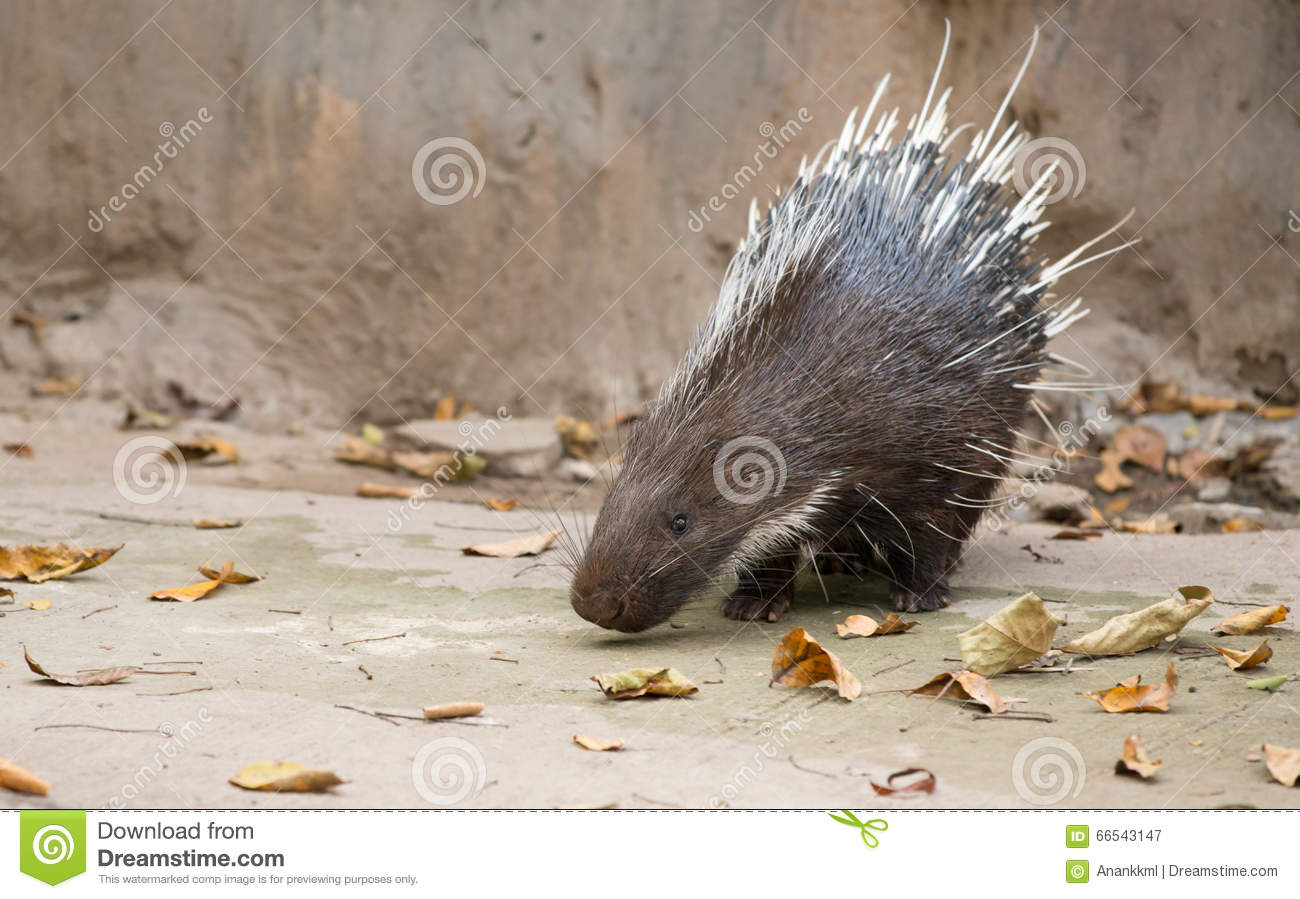porcupine: (524, 67, 1116, 659)
